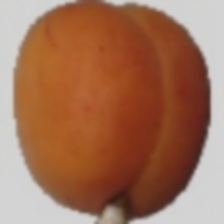apricot: (35, 39, 191, 189)
